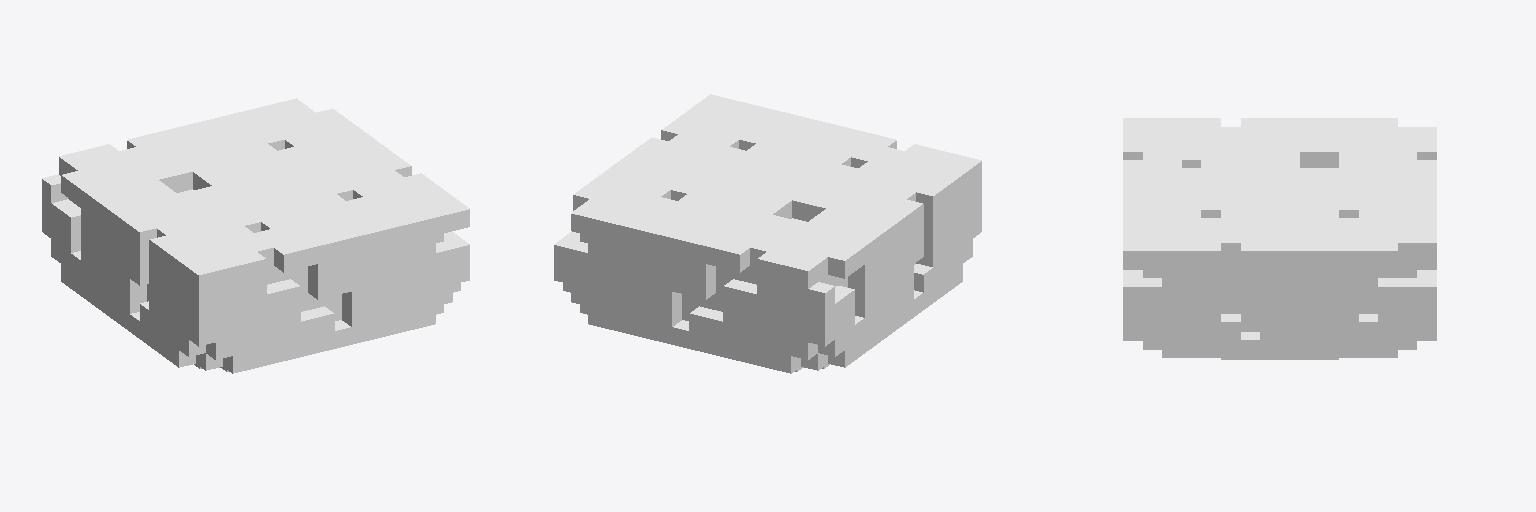
File: Platforms1-2.obj
3 views of the same model, side by side, from view 1: azimuth 30°, elevation 25°; view 2: azimuth 150°, elevation 25°; view 3: azimuth 270°, elevation 25° (orthographic).
Parts seen in each view (by area): view 1: object 1; view 2: object 1; view 3: object 1.
Part boxes in pixels (bbox=[...]): object 1: bbox=[42, 98, 469, 373]; object 1: bbox=[554, 94, 981, 373]; object 1: bbox=[1123, 118, 1436, 359].
Bounding box in the file's own units: 1.6 × 0.8 × 1.6.